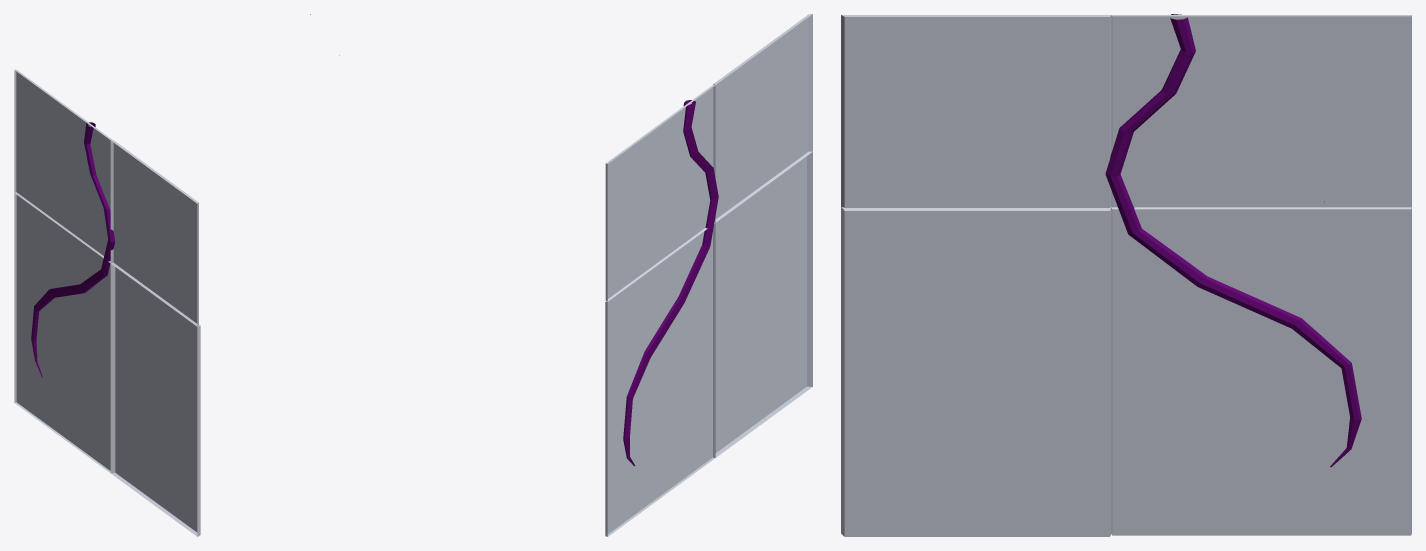
File: Pared_Corrupta_07.fbx
The picture shows the model from 3 angles, left to right: view 1: azimuth 30°, elevation 25°; view 2: azimuth 150°, elevation 25°; view 3: azimuth 270°, elevation 25°; orthographic projection. The views are drawn at different scales.
Visible parts, largest first — view 1: polySurface60, pCube176; view 2: polySurface60, pCube176; view 3: polySurface60, pCube176.
Boxes of the visible parts, <box> form: polySurface60: <box>14,69,200,536</box>; pCube176: <box>31,14,310,377</box>; polySurface60: <box>605,14,812,536</box>; pCube176: <box>339,55,718,466</box>; polySurface60: <box>841,15,1411,536</box>; pCube176: <box>1105,14,1361,467</box>.
Size of the model in its own units: 5.09 by 6.2 by 5.98.
